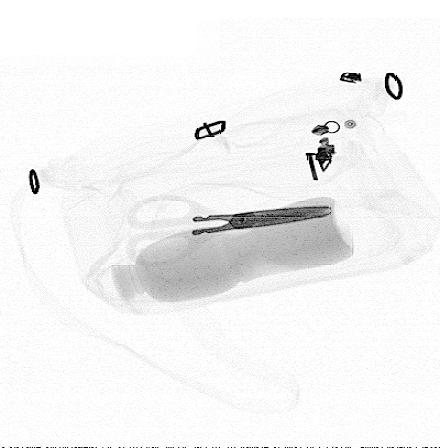Scissors: (126, 193, 334, 267)
